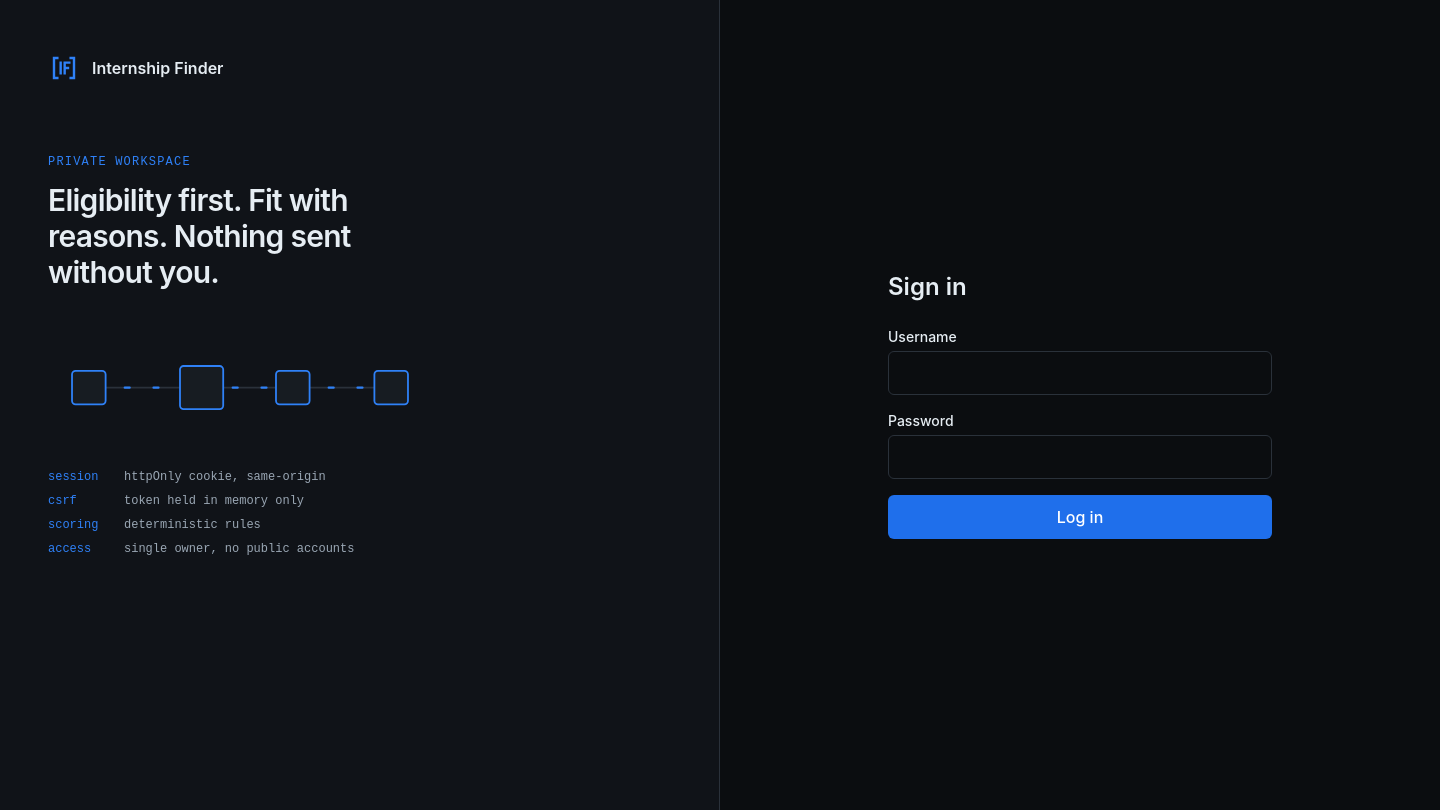
Test: login states › shows the unavailable message on a network failure
expect the form "Log in" is shown: met, box [888,327,1272,539]
Type "synthetic-owner" into the field labelled "Username" at [1080, 373], box [888,351,1272,395]
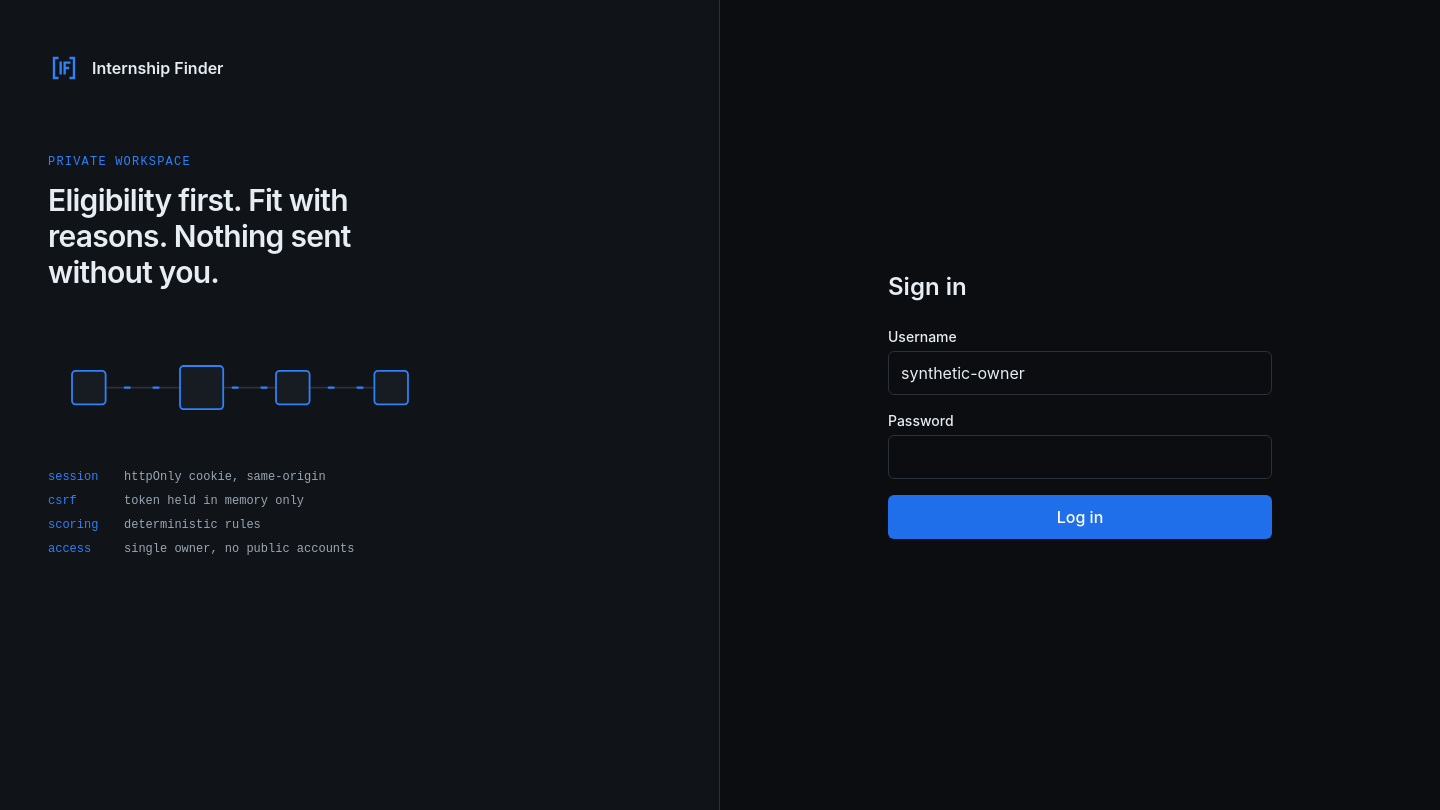
Type "pw" into the password field labelled "Password" at [1080, 457], box [888,435,1272,479]
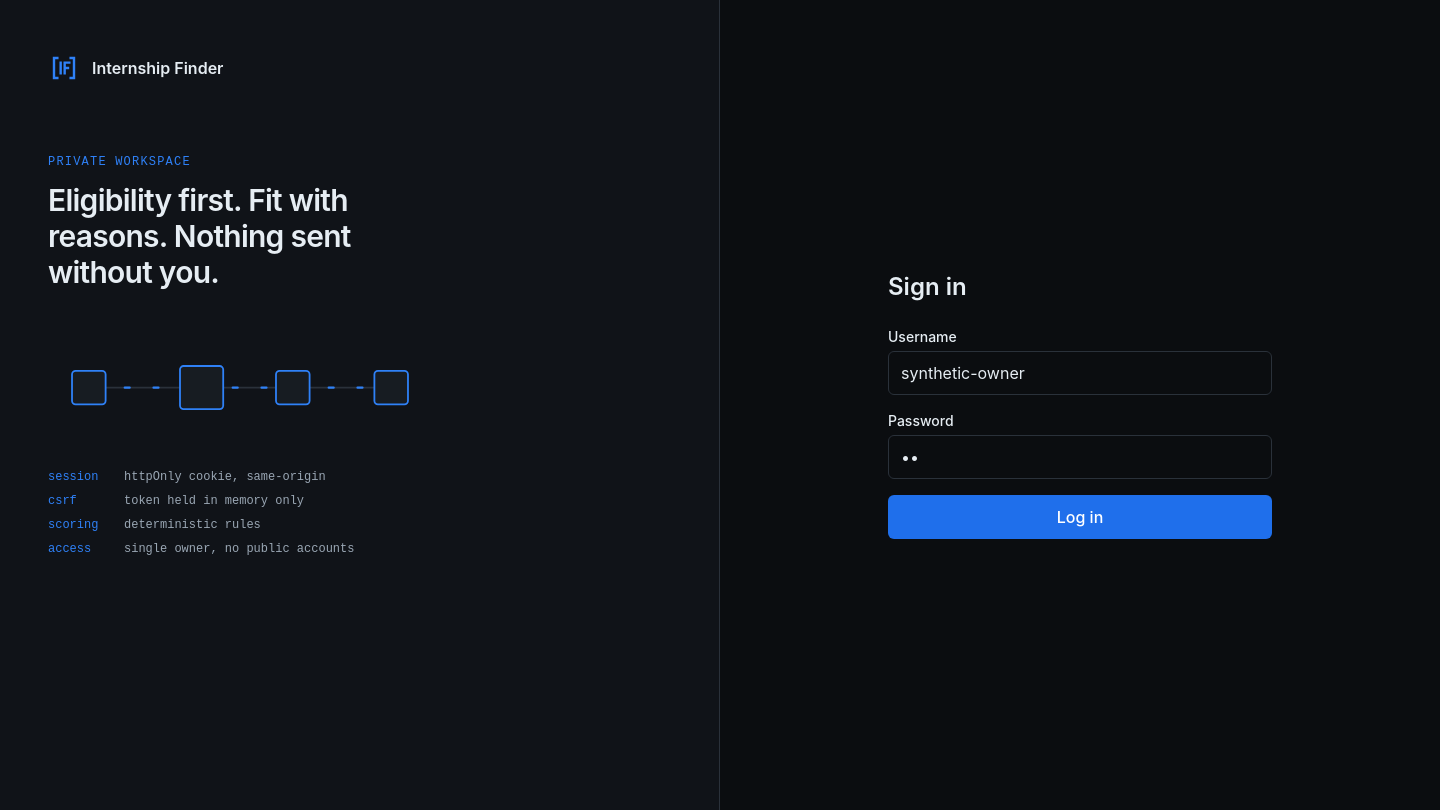
Click the button "Log in" at [1080, 517], box [888,495,1272,539]
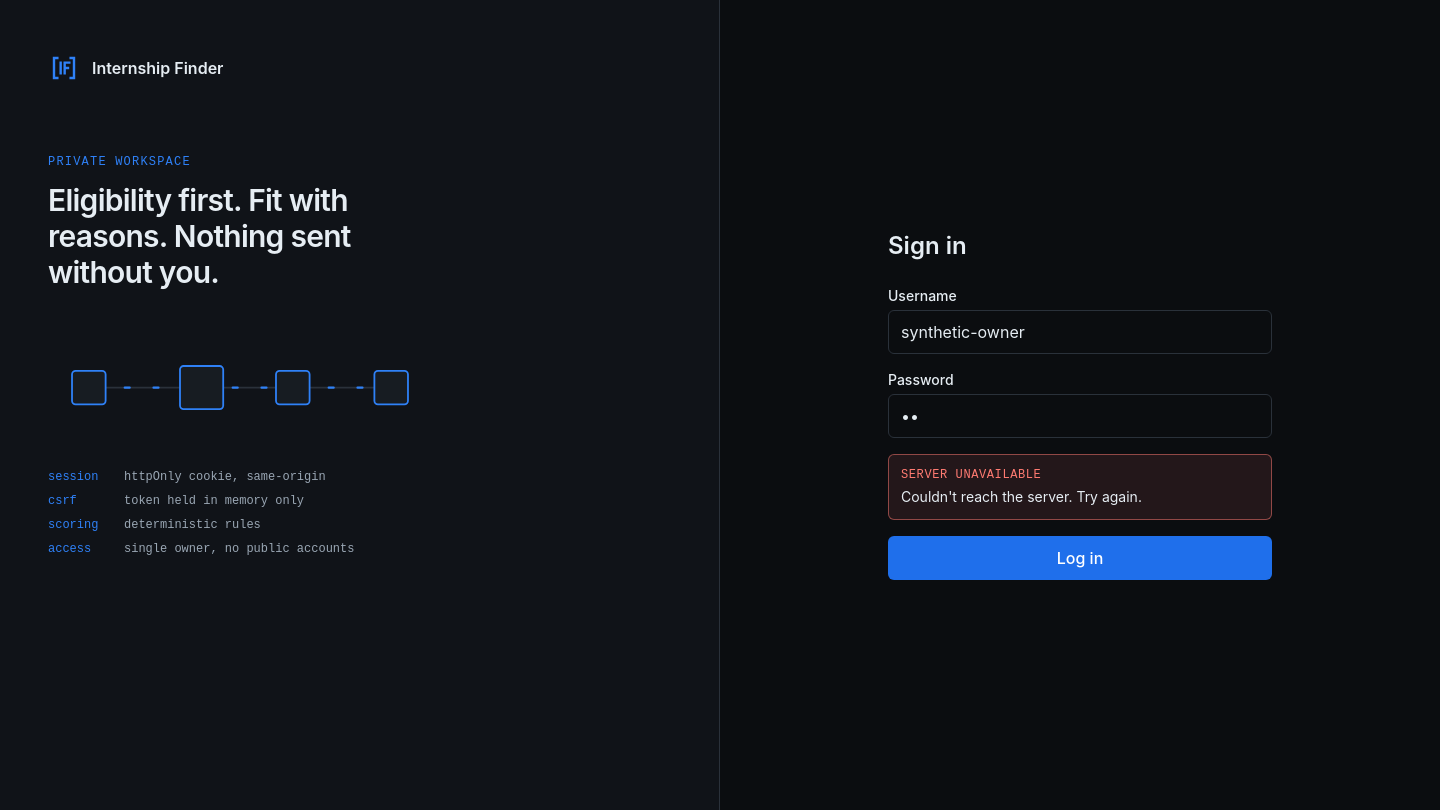
expect the button "Log in" is enabled: met, box [888,536,1272,580]
expect the message reads "Couldn't reach the server. Try again.": met, box [901,488,1142,505]
